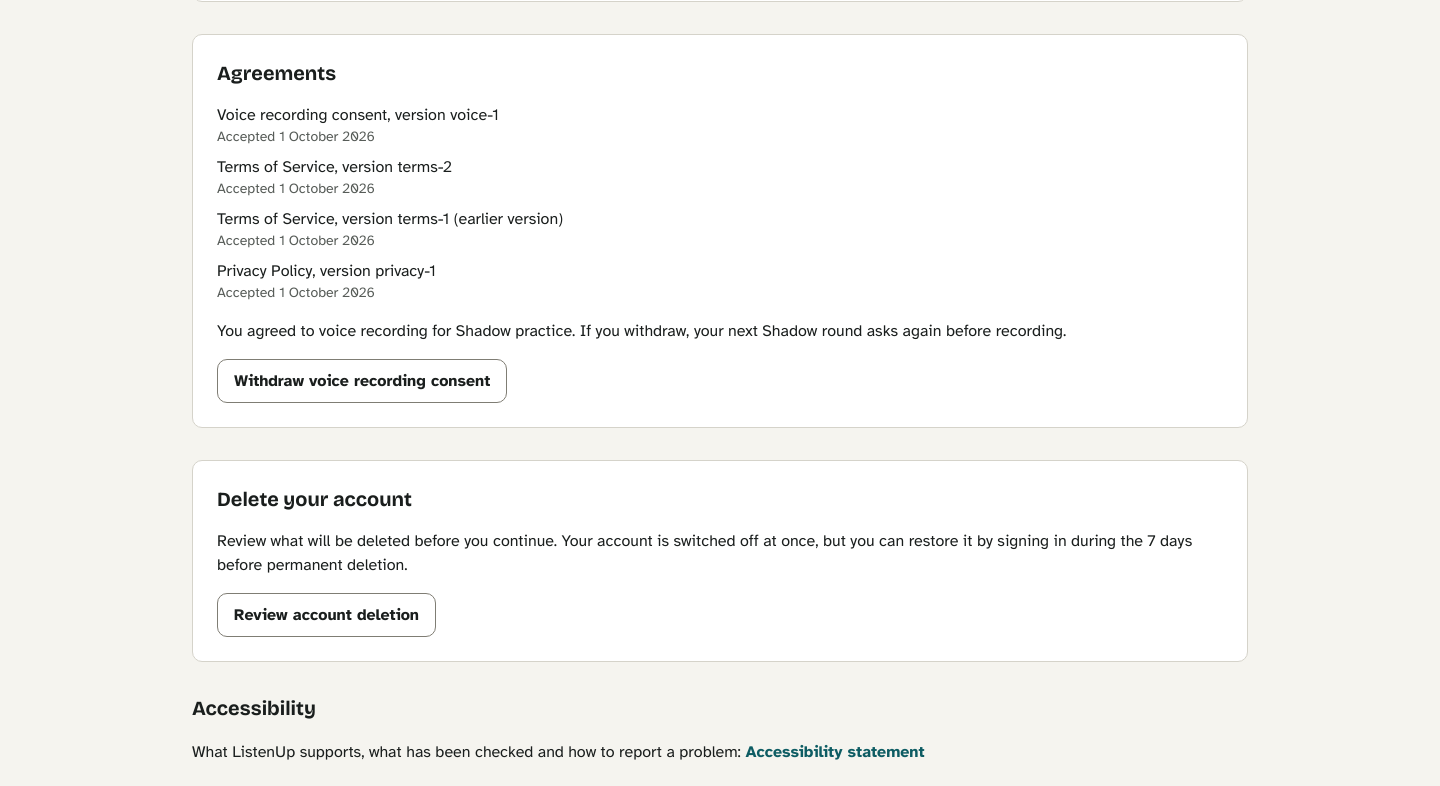
Test case: withdrawing voice consent asks first, then shows it withdrawn
The image size is (1440, 786).
(page scrolled)
Click the button "Withdraw voice recording consent" at (362, 381), box [217, 359, 507, 403]
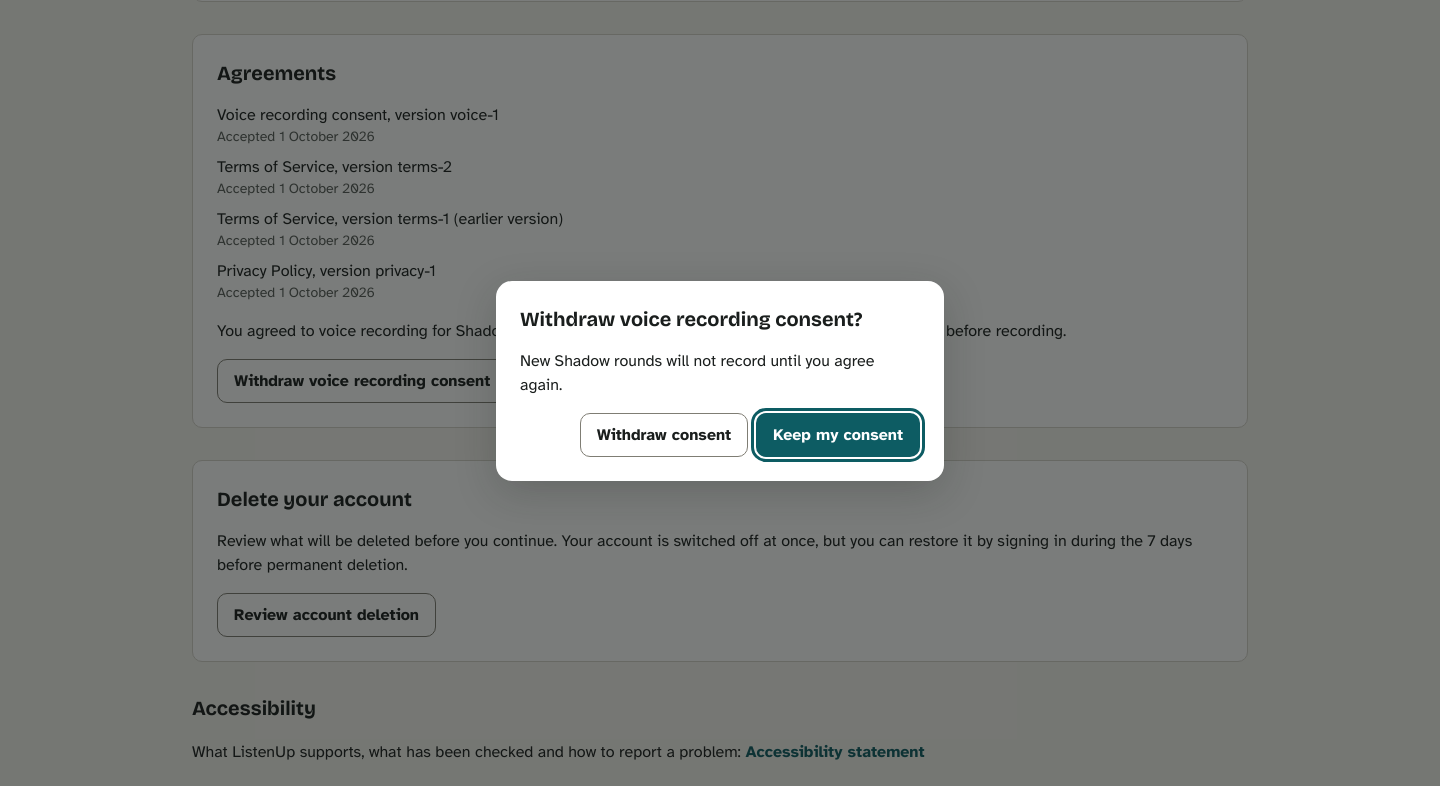
Click the button "Withdraw consent" at (664, 435), box [580, 413, 748, 457]
(page scrolled)
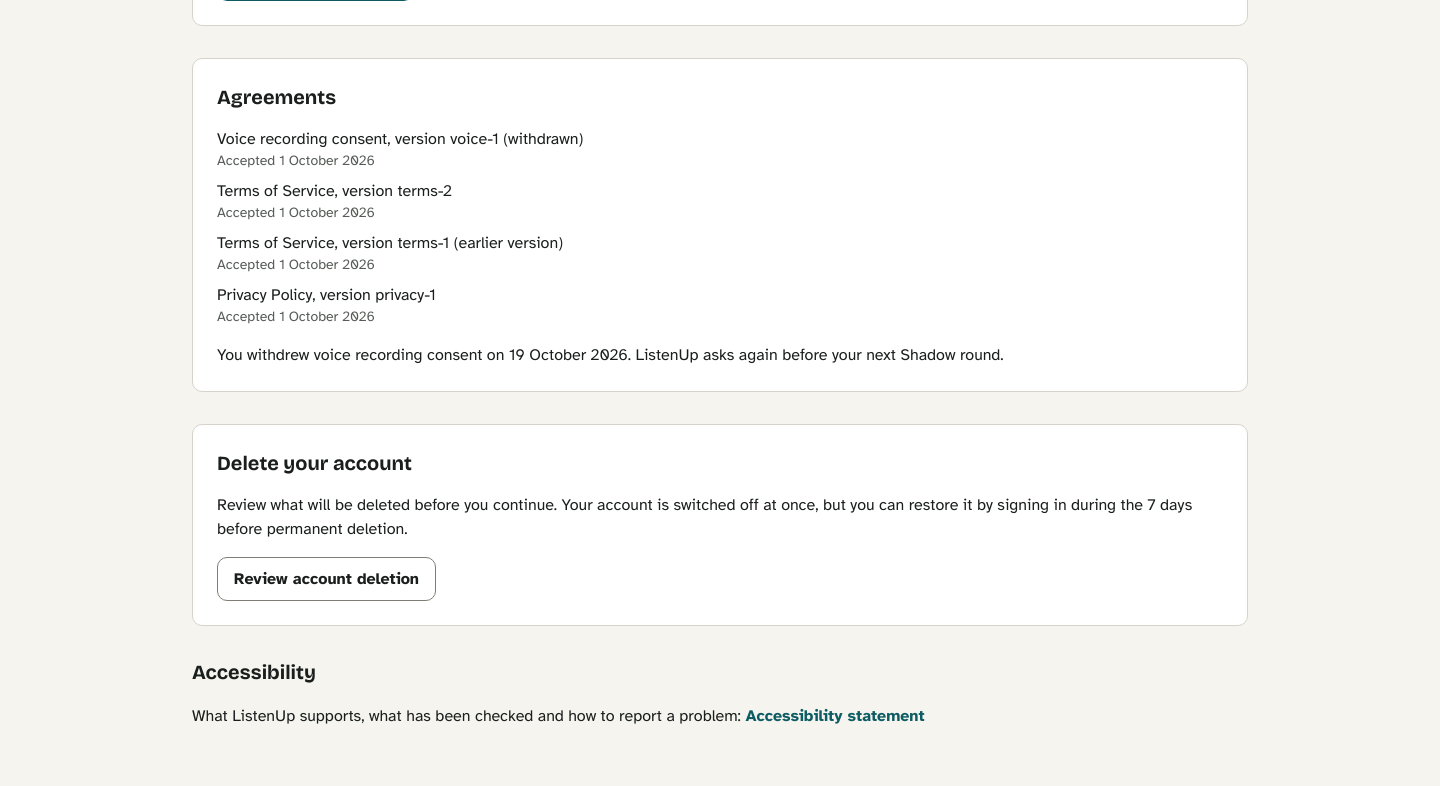
Now the button "Withdraw voice recording consent" is gone
